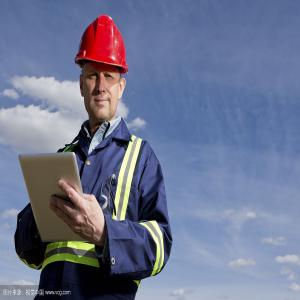red: (75, 15, 128, 123)
